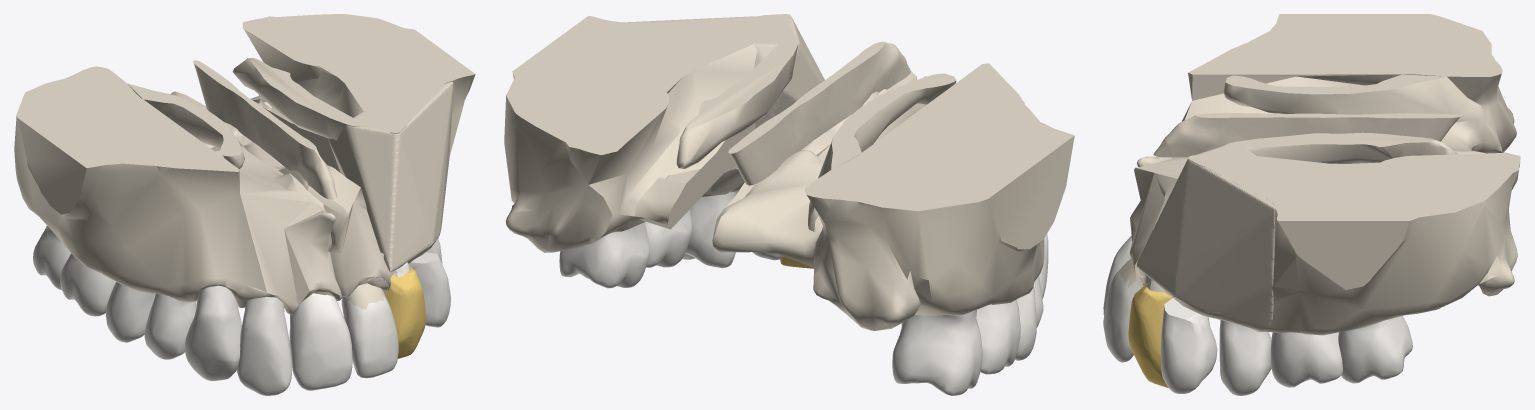
The model's file is abg-long-term-canine.glb.
3 views of the same model, side by side, from view 1: azimuth 30°, elevation 25°; view 2: azimuth 150°, elevation 25°; view 3: azimuth 270°, elevation 25° (orthographic). The views are drawn at different scales.
Parts seen in each view (by area): view 1: bone, teeth, crown; view 2: bone, teeth; view 3: bone, teeth, crown.
Boxes of the visible parts, x1,y1,x2,y2 form: bone: [14, 14, 475, 378]; teeth: [33, 226, 450, 395]; crown: [383, 265, 425, 358]; bone: [504, 14, 1074, 330]; teeth: [559, 175, 1048, 395]; bone: [1103, 14, 1520, 362]; teeth: [1103, 235, 1412, 395]; crown: [1128, 282, 1172, 388].
Size of the model in its own units: 0.0972 by 0.0502 by 0.0828.
